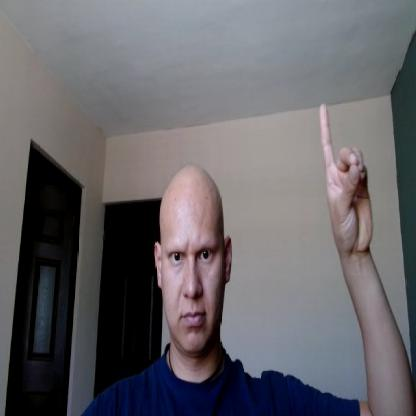D: (320, 101, 374, 257)
